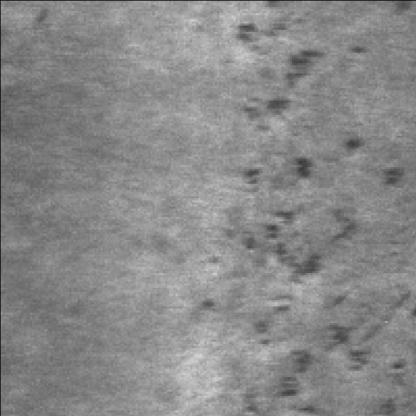rolled-in_scale: (224, 8, 346, 322), (241, 295, 410, 416)
